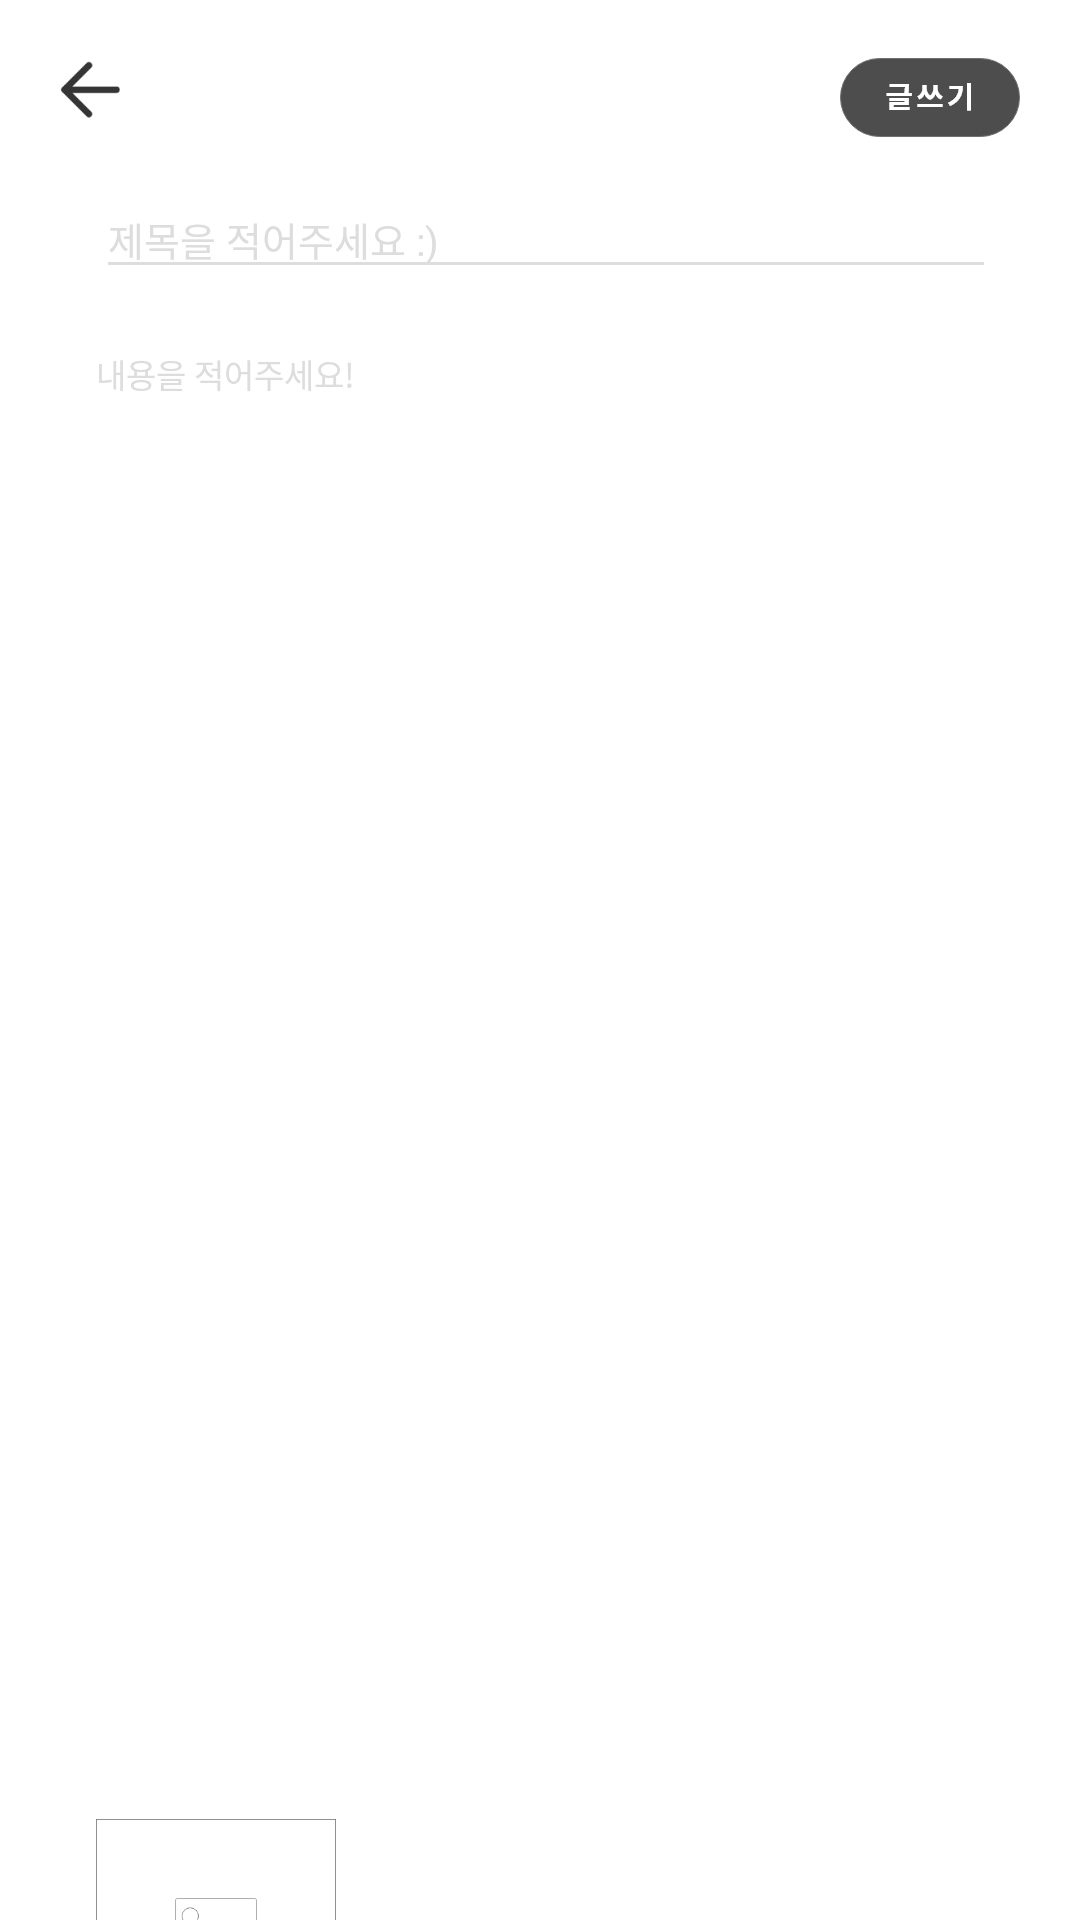

Icons on this 1080*1920 Android screen, each with the point to tap as (x=x, y=y):
backbutton: (x=90, y=89)
